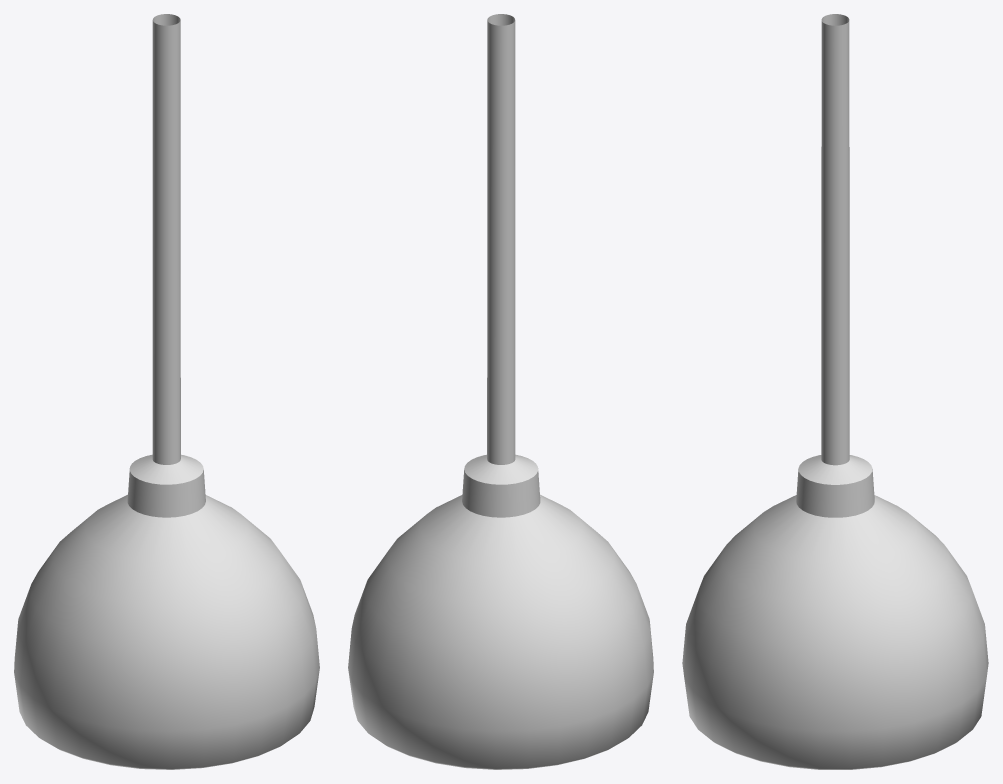
File: Lamp_01.FBX
3 views of the same model, side by side, from view 1: azimuth 30°, elevation 25°; view 2: azimuth 150°, elevation 25°; view 3: azimuth 270°, elevation 25° (orthographic).
Parts seen in each view (by area): view 1: Lamp_01; view 2: Lamp_01; view 3: Lamp_01.
Boxes of the visible parts, box(x1,y1,x2,y2) form: Lamp_01: box(14, 14, 319, 769); Lamp_01: box(348, 14, 653, 769); Lamp_01: box(682, 14, 988, 769).
Size of the model in its own units: 0.5224 by 1.3 by 0.5232.
